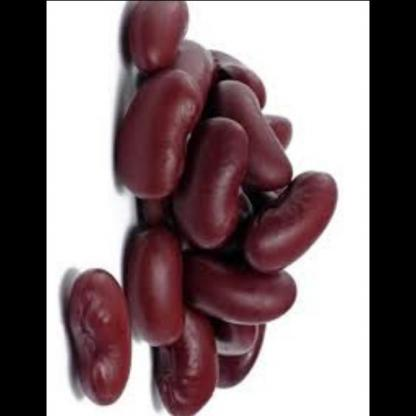fasol: (102, 4, 344, 416), (59, 262, 134, 409)
